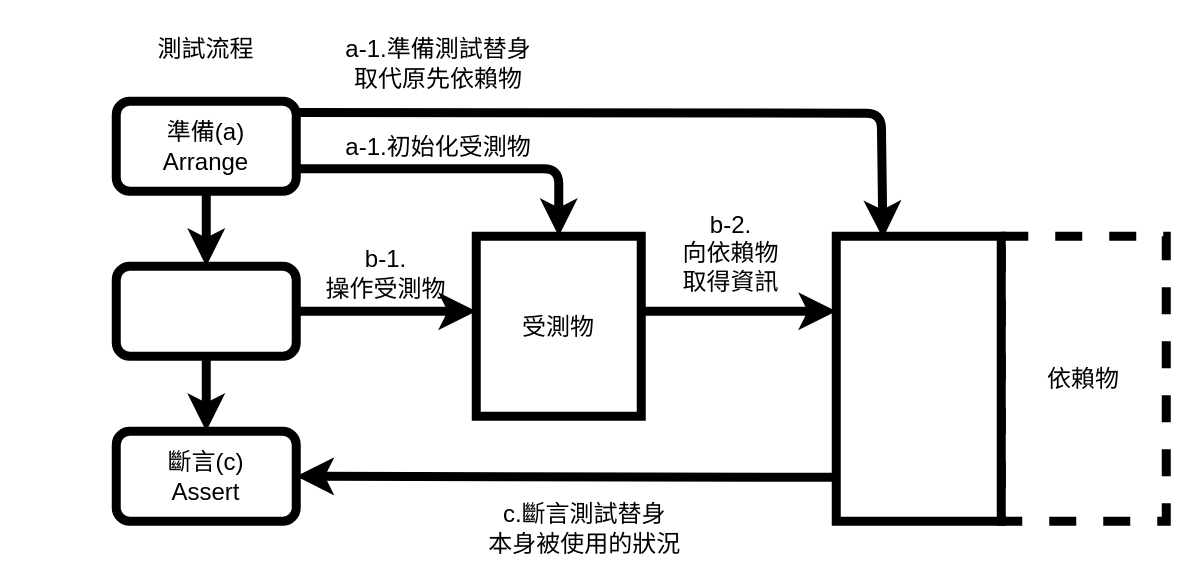
This 1196x582 diagram has some shape labels left out. Each missing label, with the box of its shape:
操作(b) Act: (111, 261, 300, 360)
測試替身 Mock Object: (831, 231, 1005, 525)
